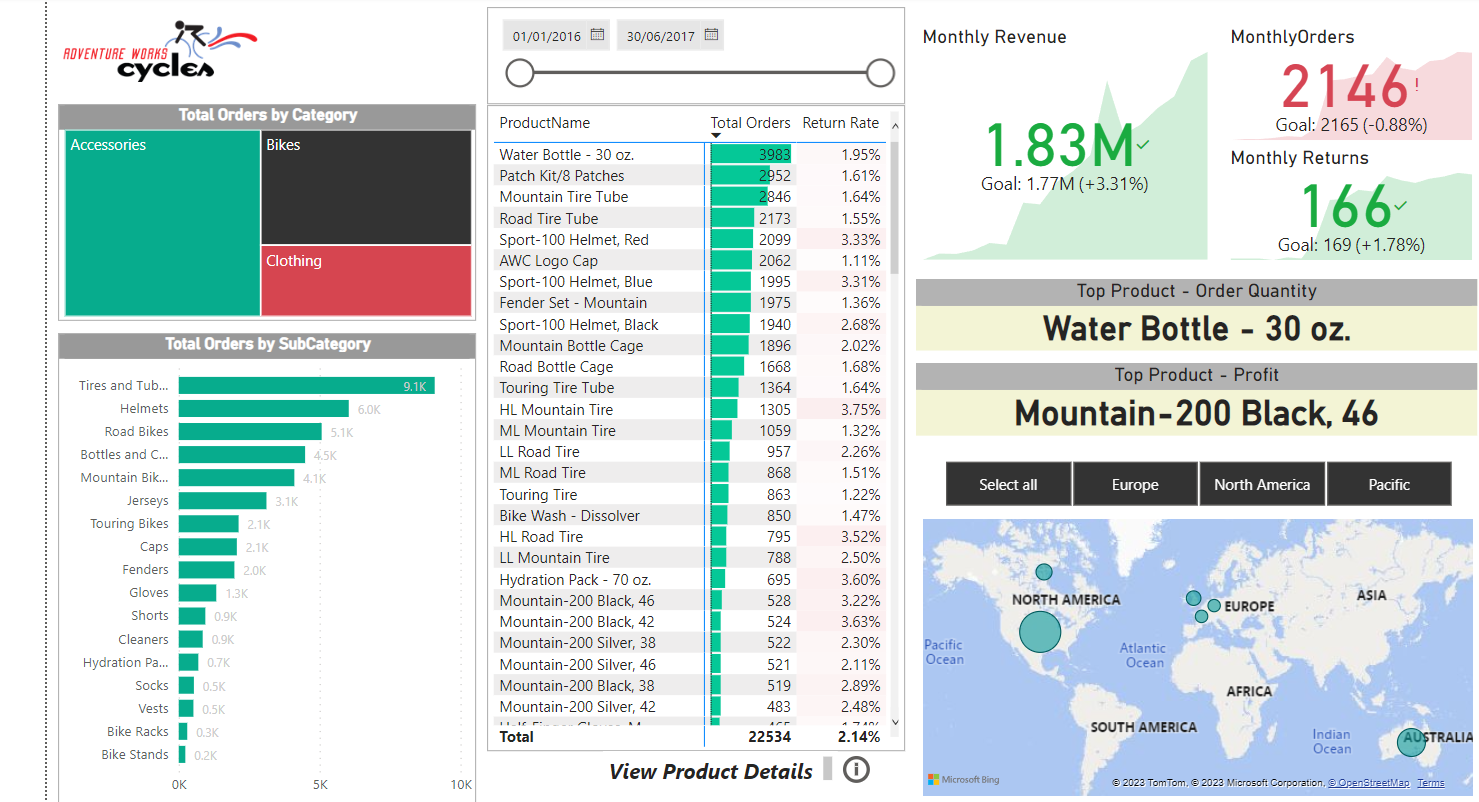

The dashboard page shown, as its layout file describes it:
{"tool":"powerbi","page":{"name":"Exec_Summary","canvas":[1280,720],"ordinal":2},"visuals":[{"type":"image","box":[9.8,0,184.6,96],"z":0},{"type":"barChart","title":"Total Orders by SubCategory","fields":{"Y":["AW_Sales.Total Orders"],"Category":["AW_Product_Subcategory_Lookup.SubcategoryName"]},"box":[9.8,300.7,374.1,420.5],"z":1000},{"type":"treemap","title":"Total Orders by Category","fields":{"Group":["AW_Product_Category_Lookup.CategoryName","AW_Product_Subcategory_Lookup.SubcategoryName"],"Values":["AW_Sales.Total Orders"]},"box":[9.8,95.3,374.1,194.4],"z":2000},{"type":"pivotTable","fields":{"Rows":["AW_Product_Category_Lookup.CategoryName","AW_Product_Lookup.ProductName","AW_Product_Subcategory_Lookup.SubcategoryName"],"Values":["AW_Sales.Total Orders","AW_Returns.Return Rate"]},"box":[393.6,96.6,374.1,578.2],"z":3000},{"type":"slicer","fields":{"Values":["AW_Calendar_Lookup.Date"]},"box":[393.8,8.6,374.2,87.4],"z":4000},{"type":"kpi","title":"Monthly Revenue","fields":{"Indicator":["AW_Sales.Total Revenue"],"TrendLine":["AW_Calendar_Lookup.Start of Month"],"Goal":["AW_Sales.Prev Month Revenue"]},"box":[777.8,24.6,264.6,215.4],"z":5000},{"type":"kpi","title":"MonthlyOrders ","fields":{"Indicator":["AW_Sales.Total Orders"],"TrendLine":["AW_Calendar_Lookup.Start of Month"],"Goal":["AW_Sales.Prev Month Orders"]},"box":[1053.5,24.6,226.5,108.3],"z":6000},{"type":"kpi","title":"Monthly Returns ","fields":{"Indicator":["AW_Returns.Total Returns"],"TrendLine":["AW_Calendar_Lookup.Start of Month"],"Goal":["AW_Returns.Prev Month Returns"]},"box":[1053.5,132.9,226.5,107.1],"z":7000},{"type":"card","title":"Top Product - Order Quantity","fields":{"Values":["Min(AW_Product_Lookup.ProductName)"]},"box":[777.5,251.8,502.4,63.6],"z":8000},{"type":"card","title":"Top Product - Profit","fields":{"Values":["Min(AW_Product_Lookup.ProductName)"]},"box":[777.5,327.6,502.4,64.8],"z":9000},{"type":"shapeMap","fields":{"Category":["AW_Territories_Lookup.Country"],"Value":["AW_Sales.Total Orders"]},"box":[777.8,461.5,502.2,258.5],"z":10000},{"type":"slicer","fields":{"Values":["AW_Territories_Lookup.Continent"]},"box":[777.8,408.6,502.2,52.9],"z":11000},{"type":"textbox","box":[497.5,674.8,210.3,33],"z":12000},{"type":"actionButton","box":[707.8,674.8,59.9,33],"z":13000}]}

Visuals, with their boxes on the page's 1280x720 design canvas (x1, y1, x2, y2). These are canvas units, not pixel positions in the 1479x802 screenshot, which may show the page scaled, cropped or inside an application window:
image: 10/0/194/96
"Total Orders by SubCategory" barChart: 10/301/384/721
"Total Orders by Category" treemap: 10/95/384/290
pivotTable - AW_Product_Category_Lookup.CategoryName x AW_Product_Lookup.ProductName: 394/97/768/675
slicer - AW_Calendar_Lookup.Date: 394/9/768/96
"Monthly Revenue" kpi: 778/25/1042/240
"MonthlyOrders " kpi: 1054/25/1280/133
"Monthly Returns " kpi: 1054/133/1280/240
"Top Product - Order Quantity" card: 778/252/1280/315
"Top Product - Profit" card: 778/328/1280/392
shapeMap - AW_Territories_Lookup.Country x AW_Sales.Total Orders: 778/462/1280/720
slicer - AW_Territories_Lookup.Continent: 778/409/1280/462
textbox: 498/675/708/708
actionButton: 708/675/768/708
